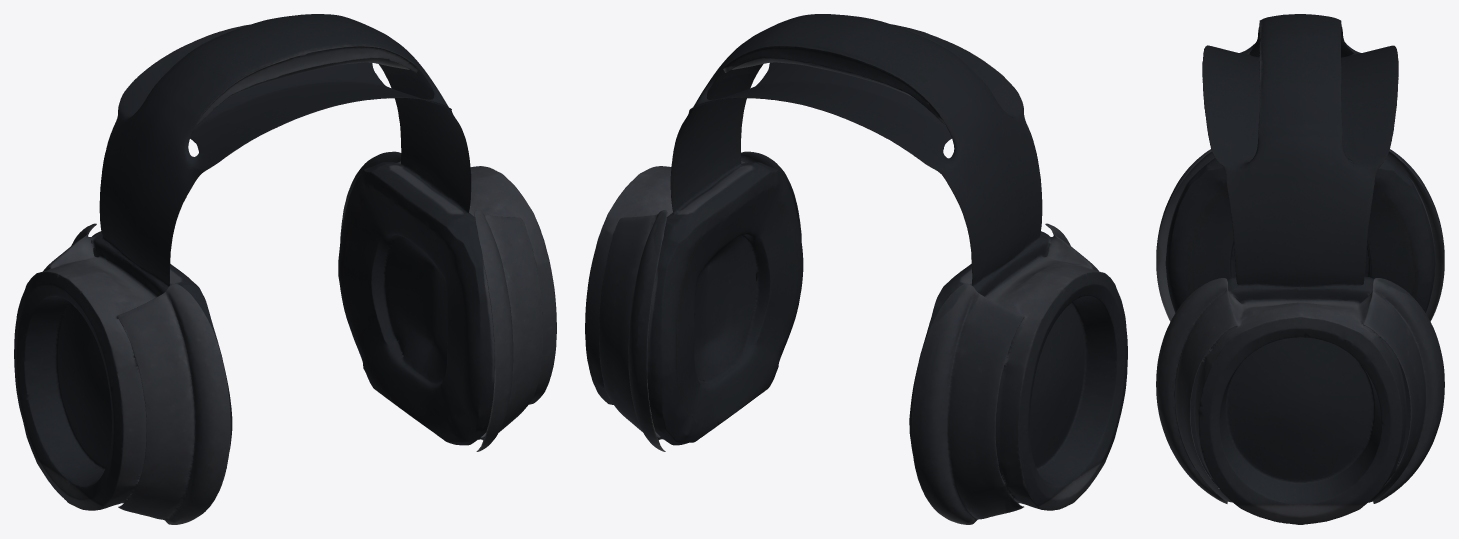
File: fonepreto.glb
3 views of the same model, side by side, from view 1: azimuth 30°, elevation 25°; view 2: azimuth 150°, elevation 25°; view 3: azimuth 270°, elevation 25° (orthographic). The views are drawn at different scales.
Size of the model in its own units: 1.9 by 1.77 by 1.16.
1 material, 1 textured.
